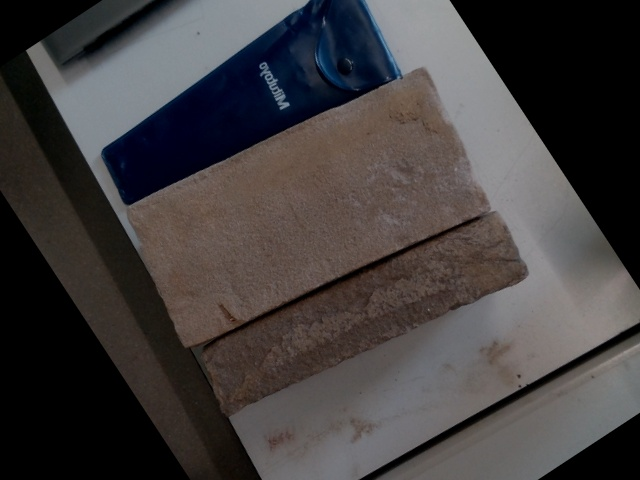brick: (125, 72, 487, 345)
